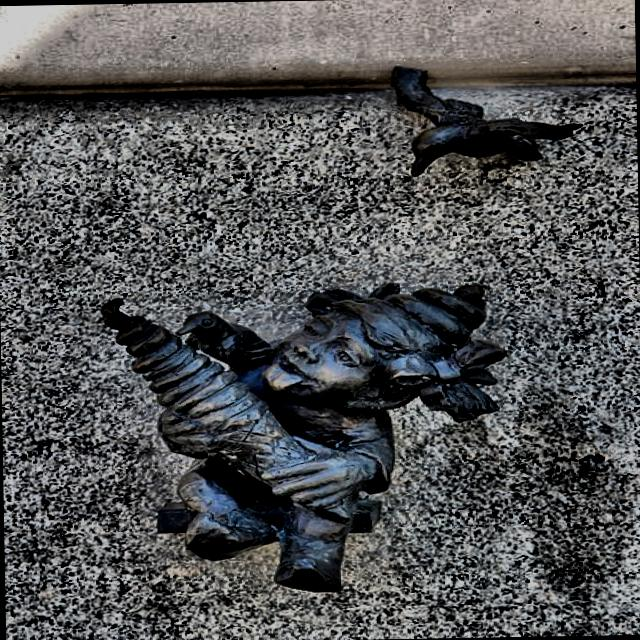Dziupelka: (101, 283, 508, 592), (391, 67, 574, 177)
